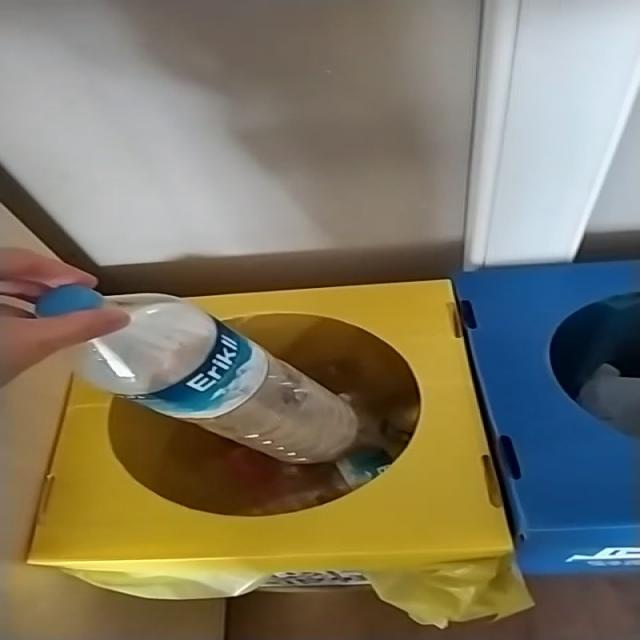plastic: (35, 284, 360, 464)
